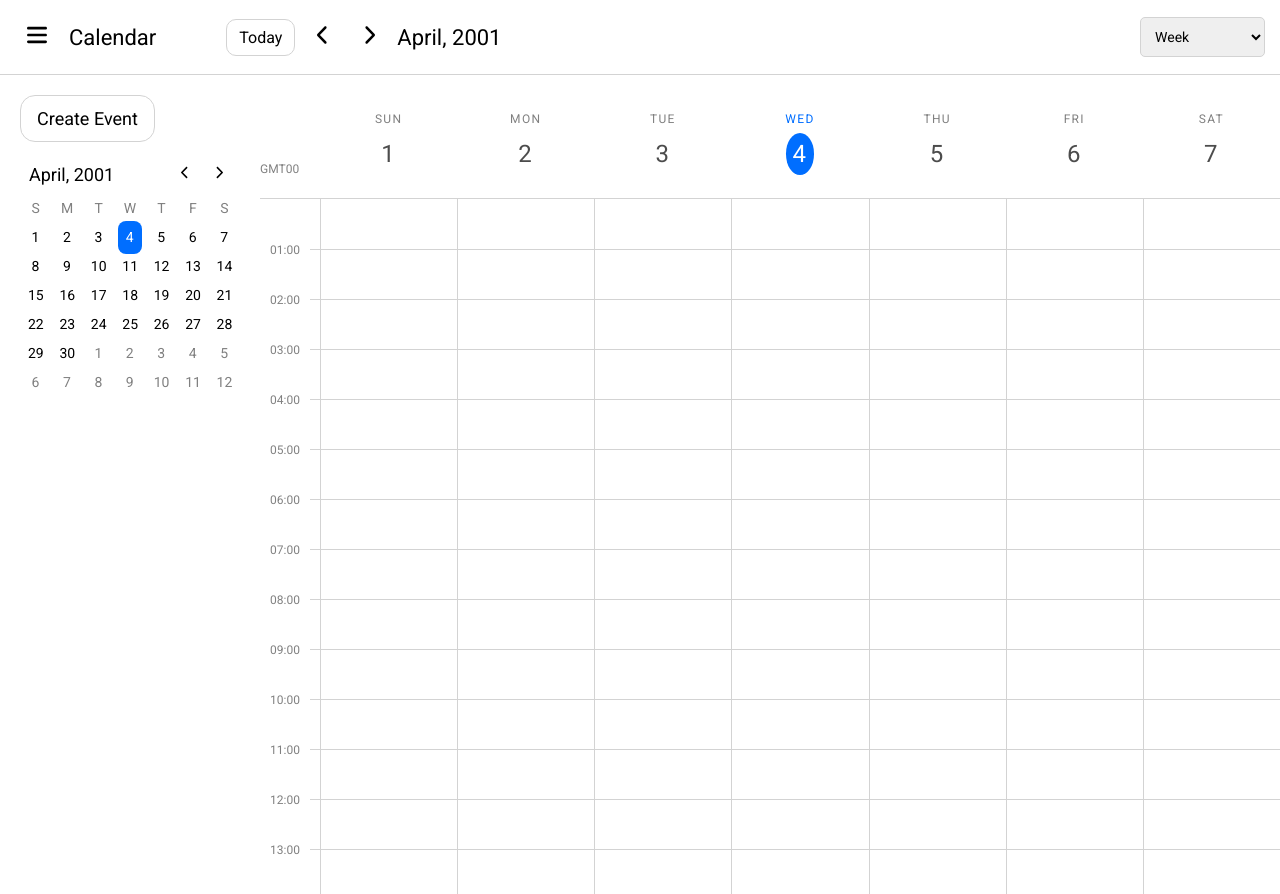
Test case: Modals › opens creationModal when clicked "create event" button
The width and height of the screenshot is (1280, 894).
Click the button with test id "createEvent" at x=87, y=118, box [20,95,155,142]
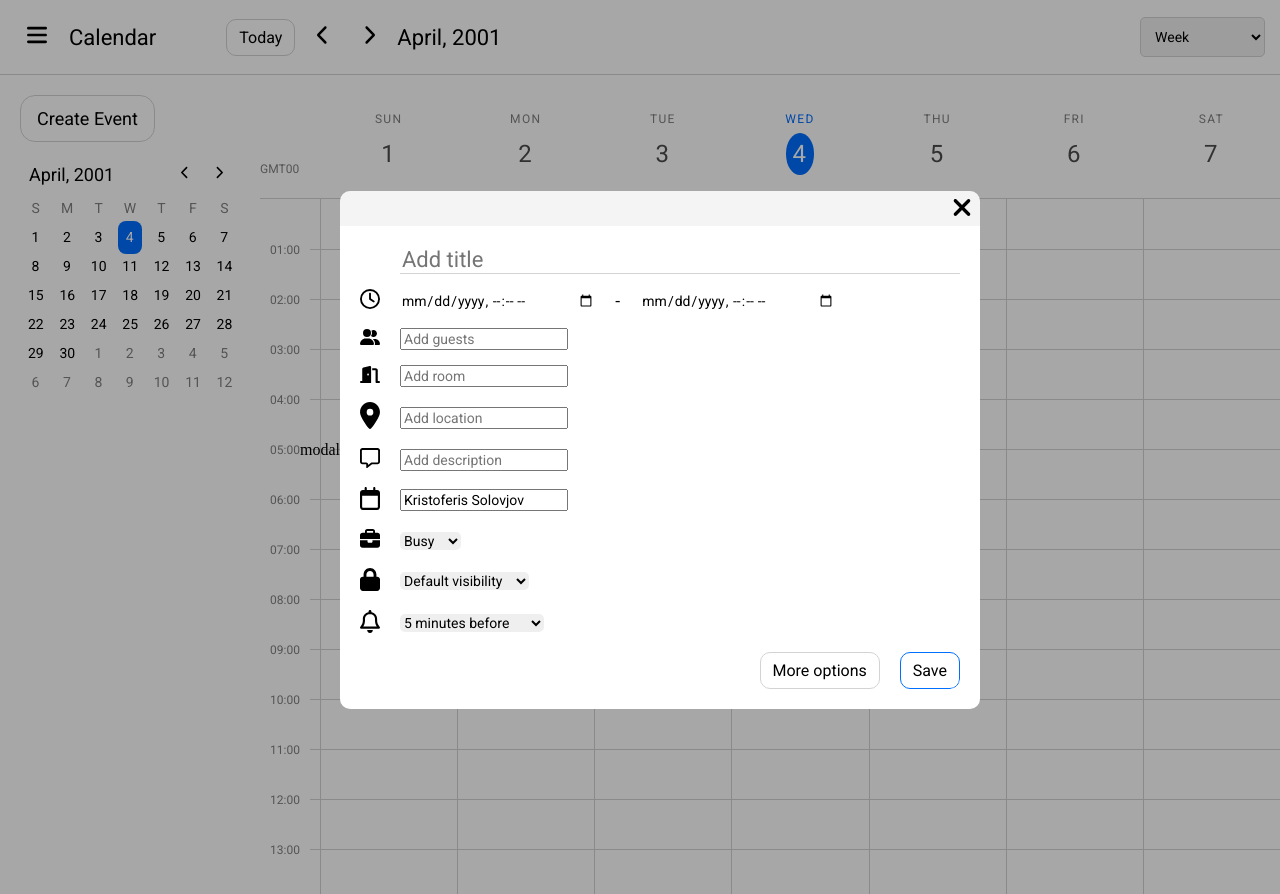
Expected: the form with test id "creationModal" is shown, [360,246,960,689]
